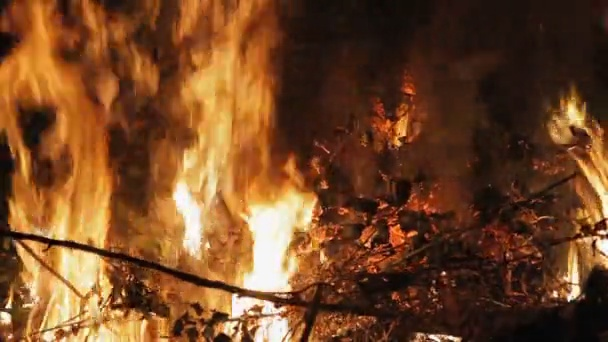fire: (9, 4, 316, 341), (570, 141, 607, 261), (544, 88, 588, 144), (558, 243, 581, 302)
